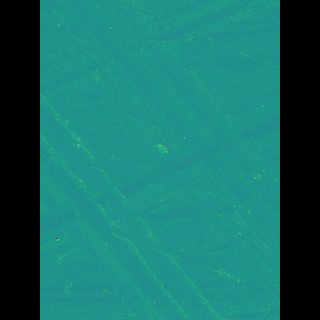Loch: (78, 11, 236, 303)
